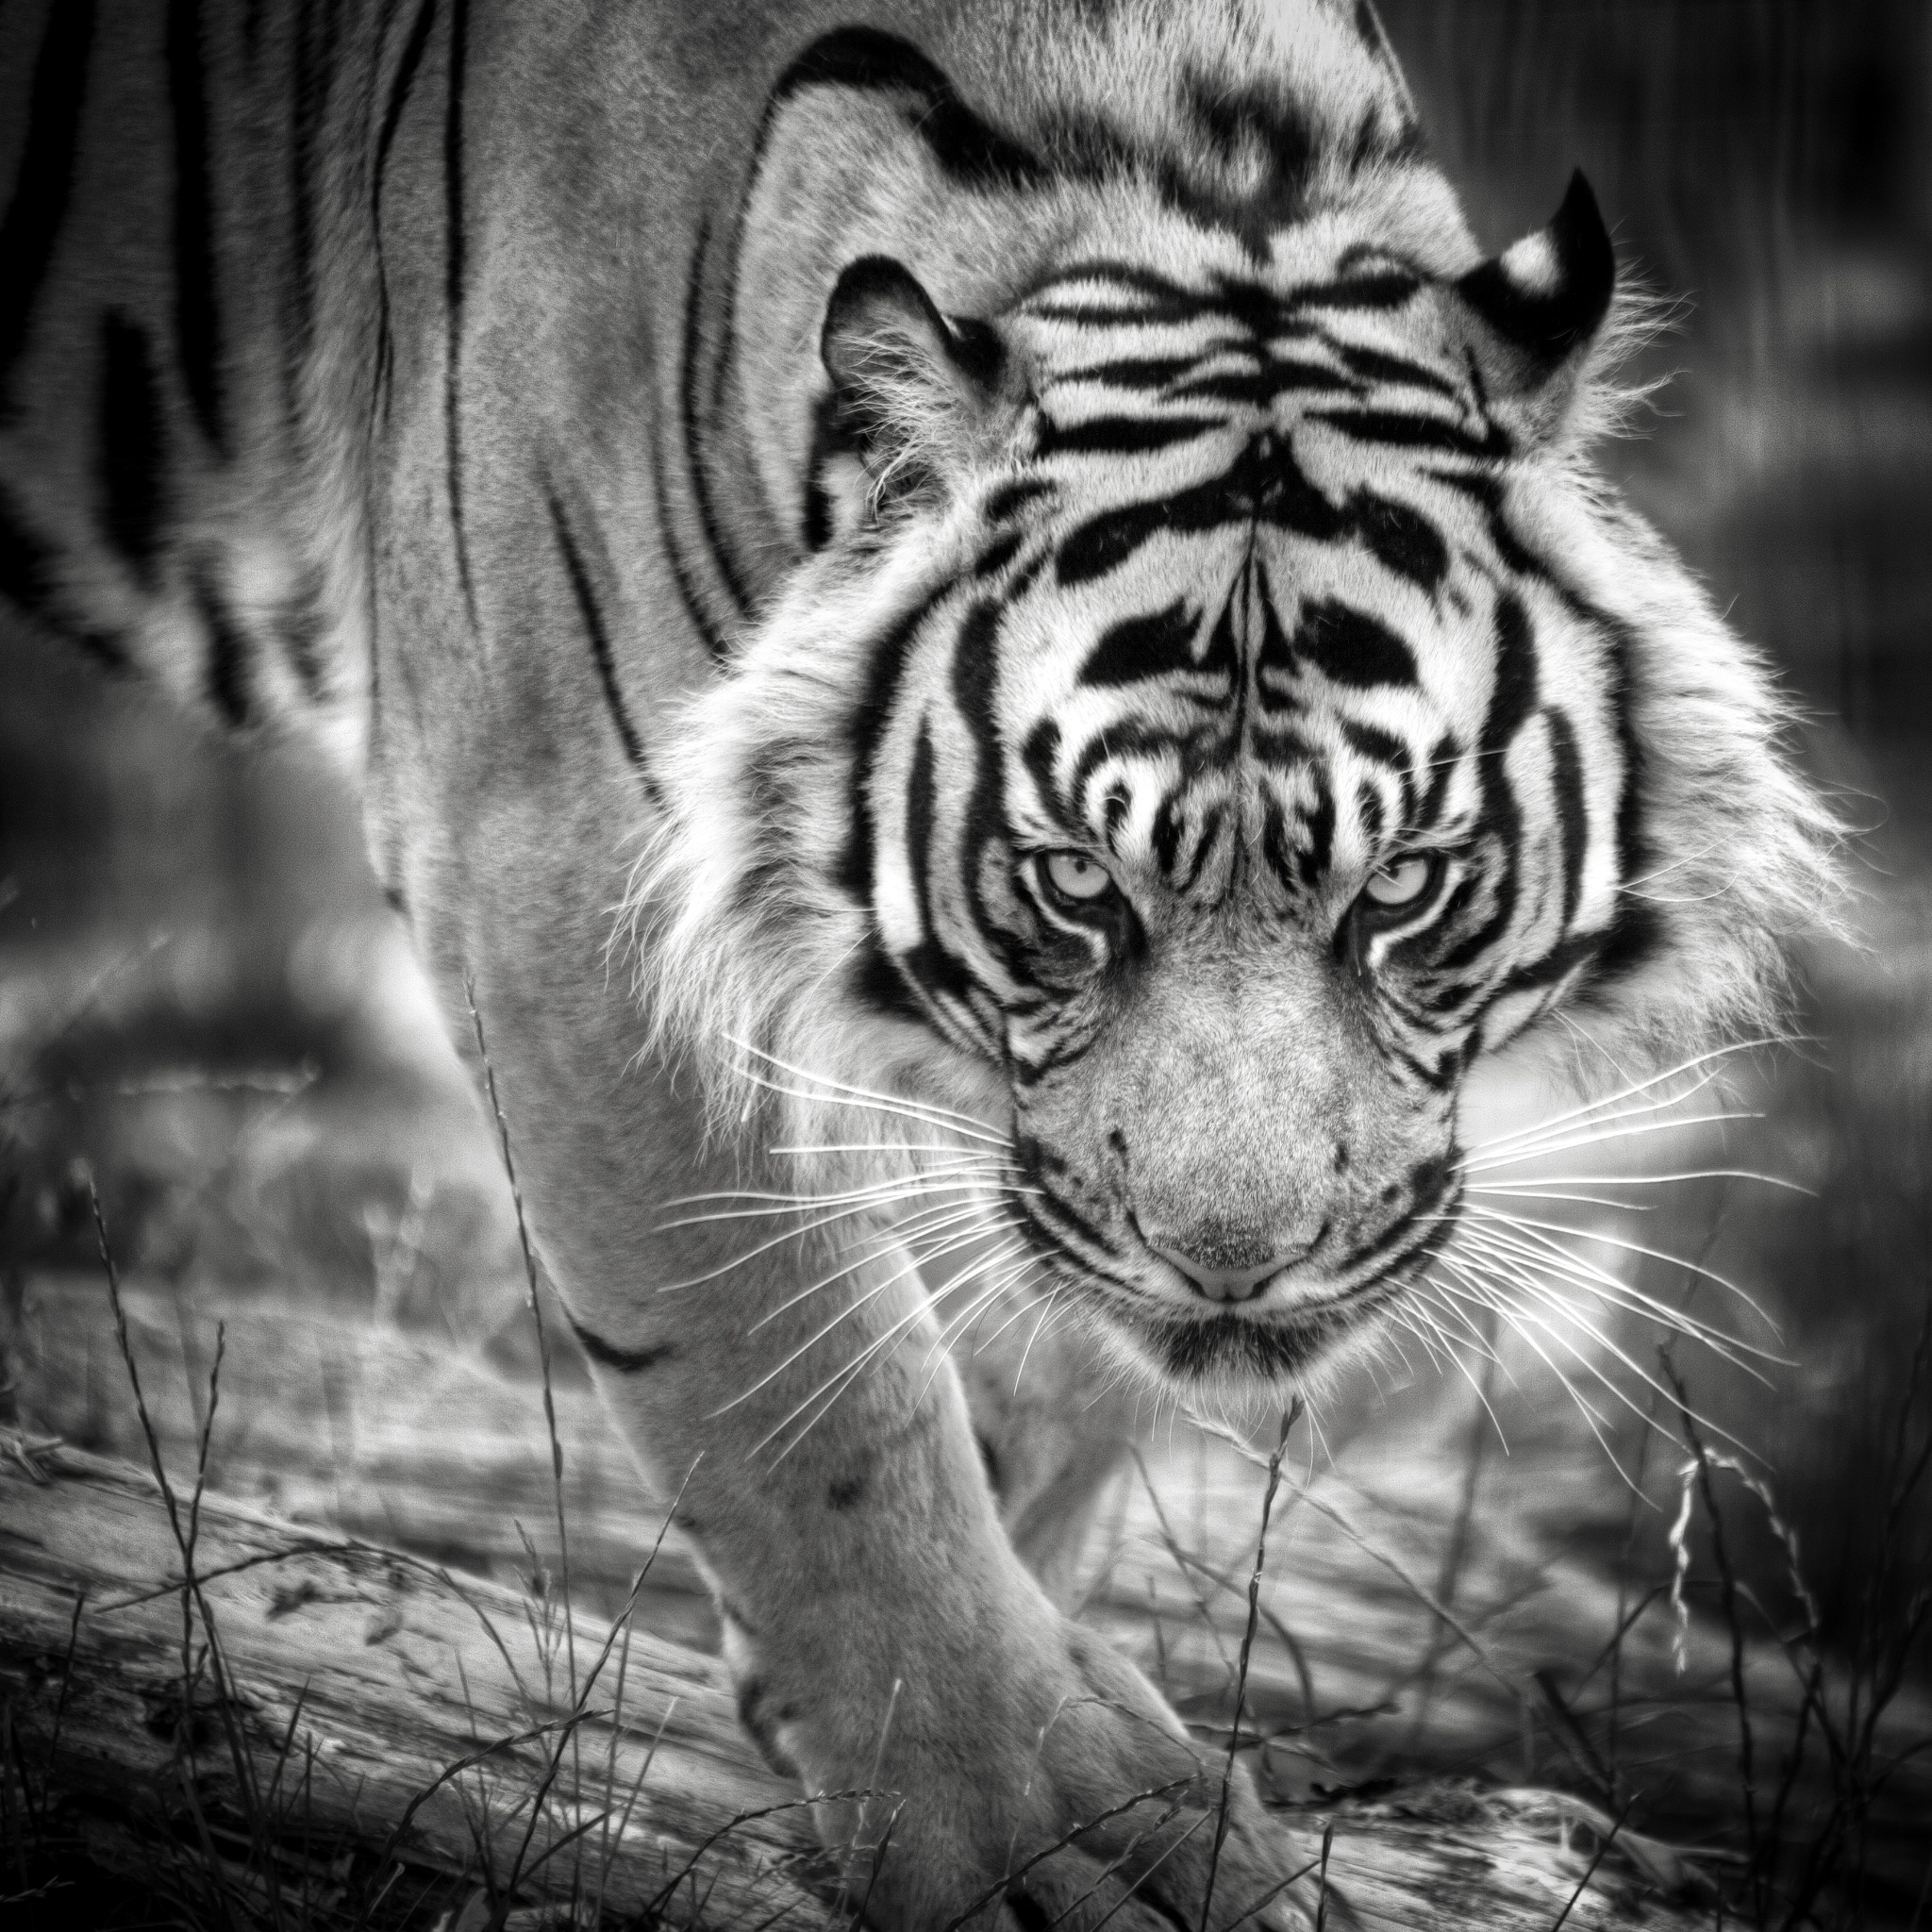tiger: (195, 2, 1824, 1824)
